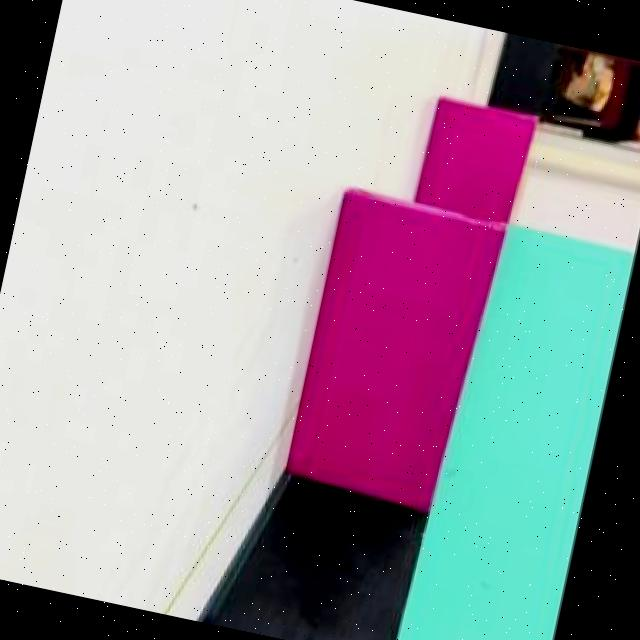xparking: (282, 192, 500, 508), (413, 100, 528, 222)
